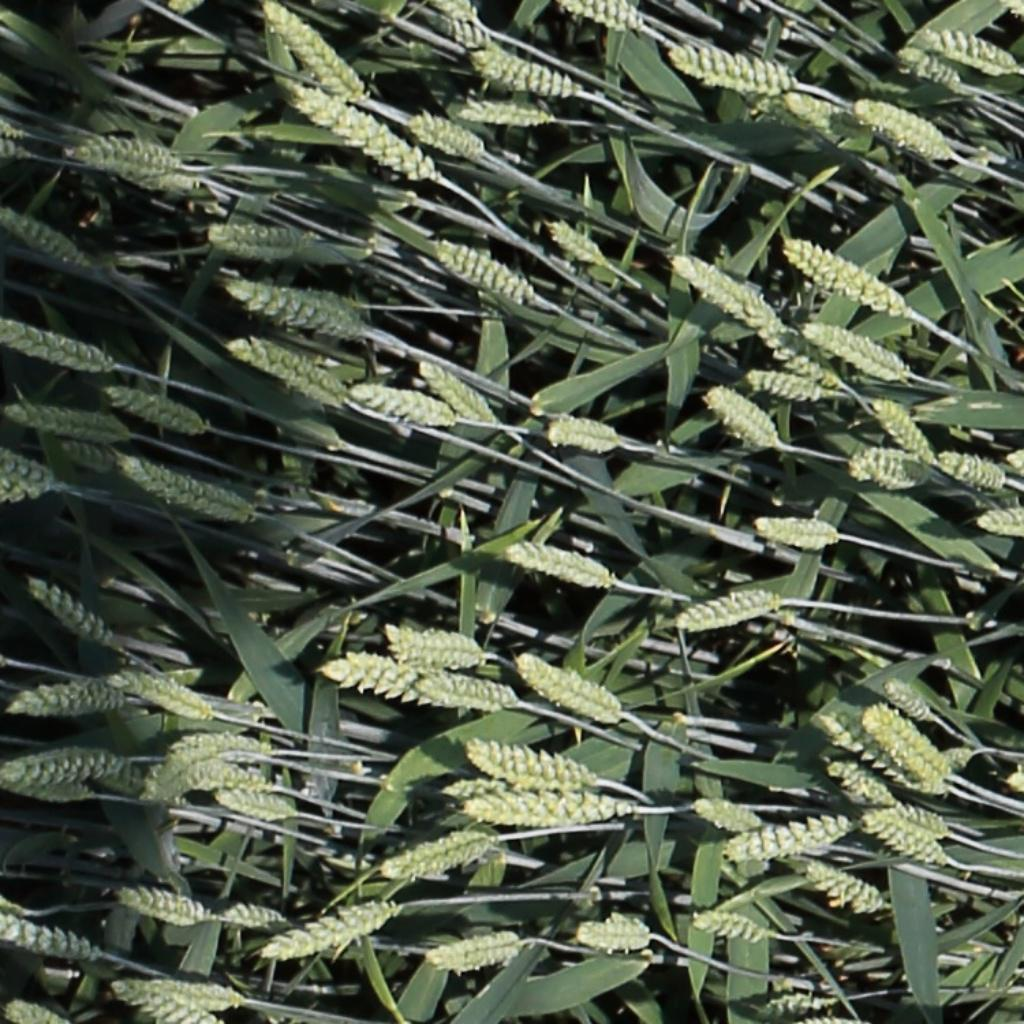0-0: (286, 80, 428, 180), (816, 707, 944, 799), (145, 727, 273, 808), (259, 0, 361, 101), (782, 234, 906, 315), (115, 453, 254, 522), (744, 295, 836, 389), (512, 652, 624, 729), (264, 898, 400, 957), (225, 279, 359, 335), (461, 741, 599, 794), (861, 707, 950, 786), (851, 96, 952, 165), (664, 45, 798, 96), (223, 338, 338, 397), (802, 322, 910, 383), (431, 238, 532, 303), (23, 576, 109, 648), (463, 791, 639, 826), (726, 812, 849, 861), (9, 676, 136, 723), (2, 743, 127, 790), (1, 318, 110, 370), (670, 253, 760, 315), (676, 585, 786, 635), (383, 622, 488, 674), (346, 383, 461, 430), (467, 46, 576, 95), (118, 666, 214, 721), (862, 806, 947, 868), (416, 357, 492, 425), (700, 384, 779, 448), (916, 29, 1020, 77), (110, 983, 231, 1024), (0, 912, 97, 963), (383, 829, 488, 876), (868, 393, 936, 465), (324, 652, 414, 706), (1, 206, 84, 264), (102, 385, 203, 432), (501, 546, 613, 587), (72, 133, 181, 175), (409, 672, 513, 716), (784, 94, 868, 148), (207, 222, 320, 262), (111, 880, 208, 925), (425, 931, 519, 975), (802, 864, 886, 913), (5, 405, 126, 439), (115, 163, 208, 203), (405, 111, 483, 157), (750, 513, 836, 554), (826, 760, 892, 811), (546, 413, 617, 456), (933, 450, 1008, 490), (574, 917, 655, 954), (895, 46, 963, 90), (847, 454, 921, 493), (0, 447, 50, 504), (151, 981, 237, 1014), (458, 100, 554, 129), (692, 907, 765, 945), (544, 218, 604, 264), (890, 793, 948, 839), (559, 0, 644, 31), (179, 765, 273, 791), (210, 791, 294, 820), (742, 370, 823, 400), (434, 17, 492, 56), (882, 679, 933, 723), (689, 802, 761, 832), (443, 773, 519, 801), (54, 438, 114, 469), (760, 995, 838, 1018), (225, 905, 285, 931), (937, 738, 974, 778), (4, 1000, 58, 1024), (978, 507, 1021, 537), (6, 788, 96, 802)
